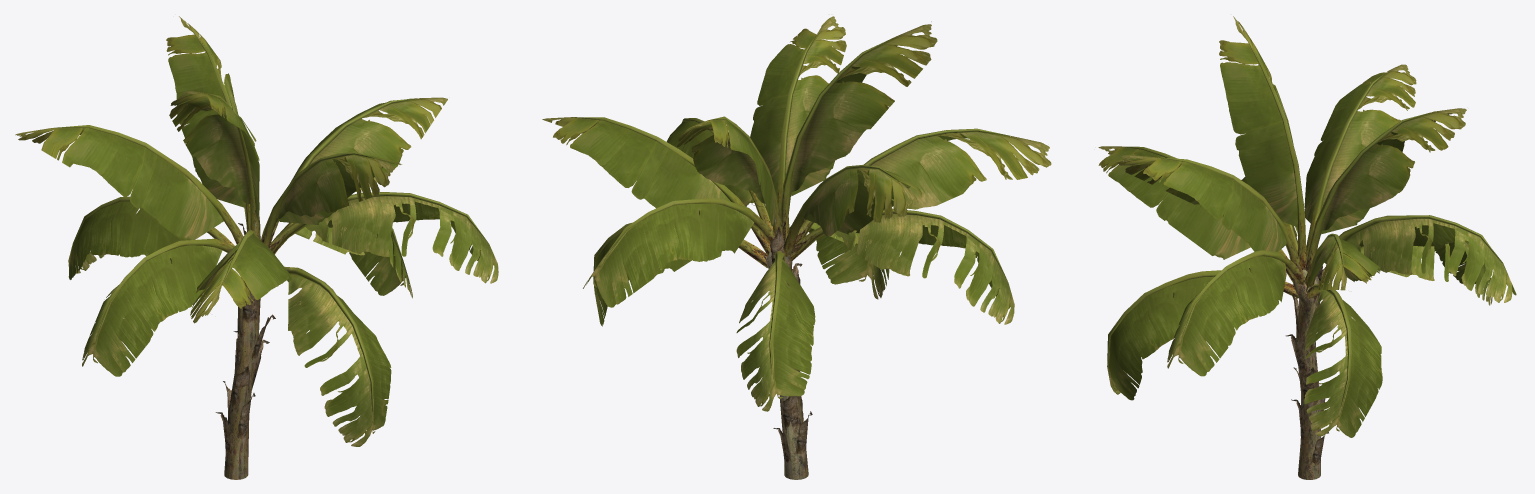
File: banana_lod.glb
3 renders of one model, left to right at view 1: azimuth 30°, elevation 25°; view 2: azimuth 150°, elevation 25°; view 3: azimuth 270°, elevation 25°, orthographic. The views are drawn at different scales.
Parts seen in each view (by area): view 1: Tree_1_Tree_1Mat_0, Tree_2_Tree_2Mat_0, Tree_4_Tree_4Mat_0, Tree_0_Tree_0Mat_0, Tree_3_Tree_3Mat_0; view 2: Tree_1_Tree_1Mat_0, Tree_2_Tree_2Mat_0, Tree_4_Tree_4Mat_0, Tree_3_Tree_3Mat_0, Tree_0_Tree_0Mat_0; view 3: Tree_1_Tree_1Mat_0, Tree_2_Tree_2Mat_0, Tree_4_Tree_4Mat_0, Tree_0_Tree_0Mat_0, Tree_3_Tree_3Mat_0.
Boxes of the visible parts, x1,y1,x2,y2 form: Tree_1_Tree_1Mat_0: [15, 16, 447, 323]; Tree_2_Tree_2Mat_0: [68, 116, 498, 446]; Tree_4_Tree_4Mat_0: [54, 32, 487, 414]; Tree_0_Tree_0Mat_0: [224, 277, 260, 479]; Tree_3_Tree_3Mat_0: [215, 223, 275, 461]; Tree_1_Tree_1Mat_0: [542, 16, 1051, 235]; Tree_2_Tree_2Mat_0: [583, 121, 1014, 411]; Tree_4_Tree_4Mat_0: [572, 33, 1011, 376]; Tree_3_Tree_3Mat_0: [756, 227, 812, 470]; Tree_0_Tree_0Mat_0: [767, 250, 808, 479]; Tree_1_Tree_1Mat_0: [1098, 16, 1466, 291]; Tree_2_Tree_2Mat_0: [1107, 177, 1516, 437]; Tree_4_Tree_4Mat_0: [1107, 42, 1501, 407]; Tree_0_Tree_0Mat_0: [1293, 269, 1320, 479]; Tree_3_Tree_3Mat_0: [1285, 247, 1328, 473].
Bounding box in the file's own units: 2.89 × 2.89 × 2.74.
5 materials, 5 textured.
